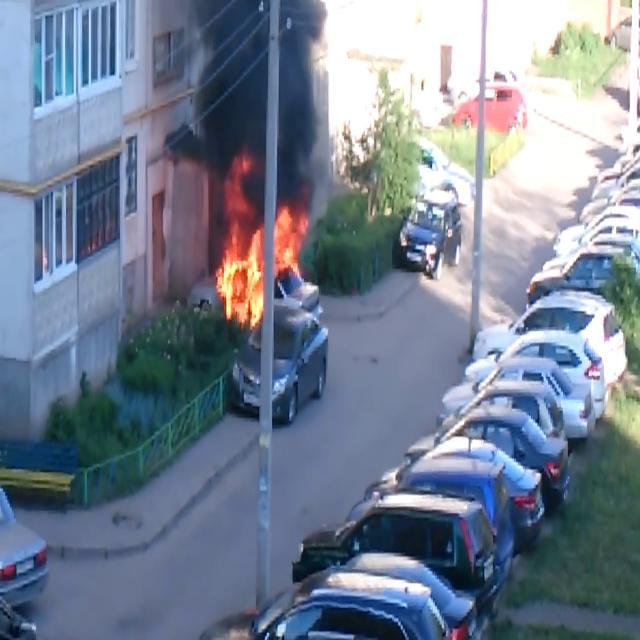Fire: (214, 188, 304, 322)
Smoke: (174, 0, 346, 226)
